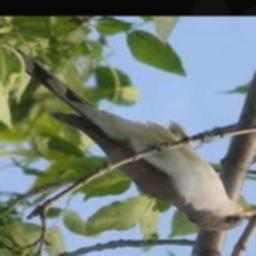Cuckoo: (9, 47, 256, 231)
